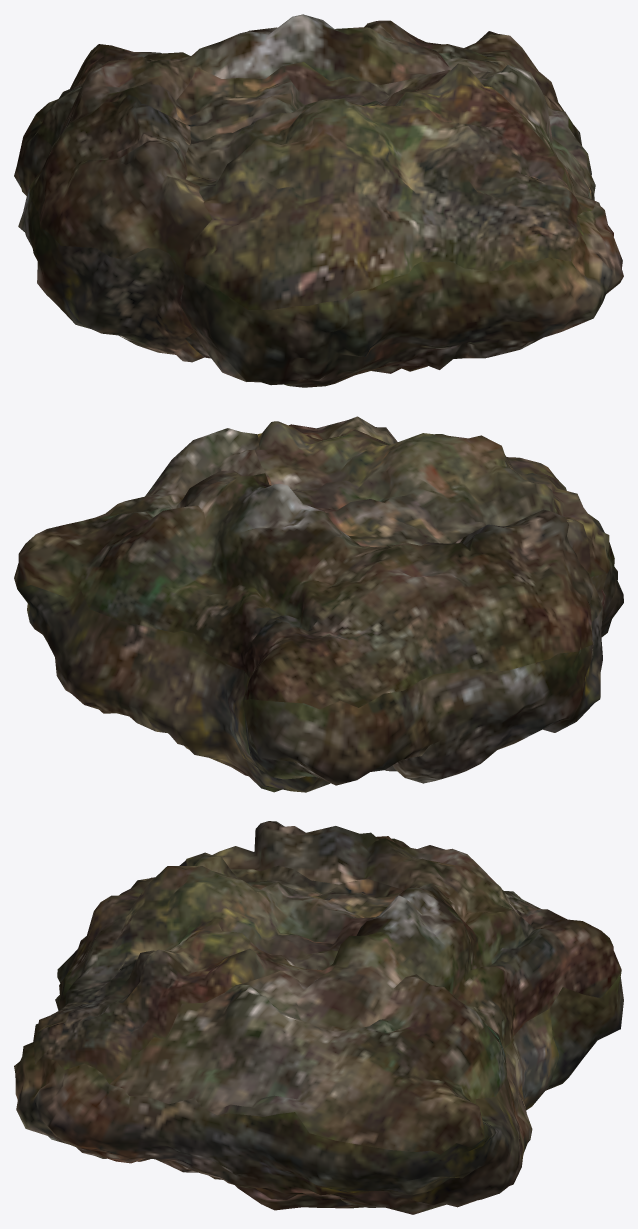
The model's file is sm20_018_midfatberg01a.fbx.
3 renders of one model, top to bottom at view 1: azimuth 30°, elevation 25°; view 2: azimuth 150°, elevation 25°; view 3: azimuth 270°, elevation 25°, orthographic. The views are drawn at different scales.
Parts seen in each view (by area): view 1: LOD_1_Group_0_Sub_1__sm20_018_MidFatBerg01A_A_Mat; view 2: LOD_1_Group_0_Sub_1__sm20_018_MidFatBerg01A_A_Mat; view 3: LOD_1_Group_0_Sub_1__sm20_018_MidFatBerg01A_A_Mat.
Boxes of the visible parts, bbox=[...] form: LOD_1_Group_0_Sub_1__sm20_018_MidFatBerg01A_A_Mat: bbox=[14, 14, 623, 387]; LOD_1_Group_0_Sub_1__sm20_018_MidFatBerg01A_A_Mat: bbox=[14, 416, 623, 792]; LOD_1_Group_0_Sub_1__sm20_018_MidFatBerg01A_A_Mat: bbox=[14, 821, 623, 1214].
Bounding box in the file's own units: 2.2 × 1.1 × 2.21.
